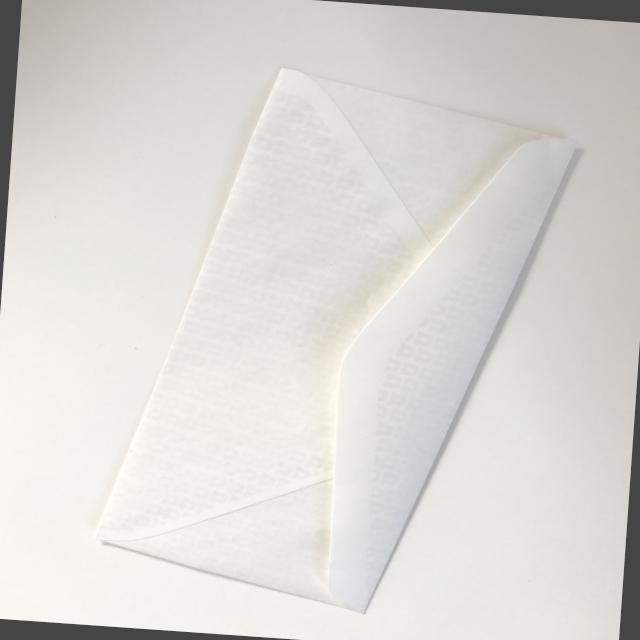Paper: (90, 56, 579, 624)
